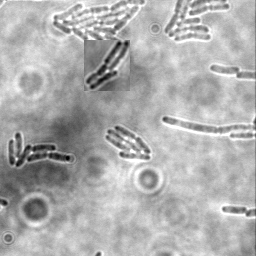Dividing: (161, 114, 255, 133), (221, 204, 248, 215)
Microcolony: (51, 1, 147, 56), (162, 1, 231, 44), (8, 130, 72, 167), (84, 40, 130, 91), (106, 124, 153, 160), (208, 63, 240, 74)
